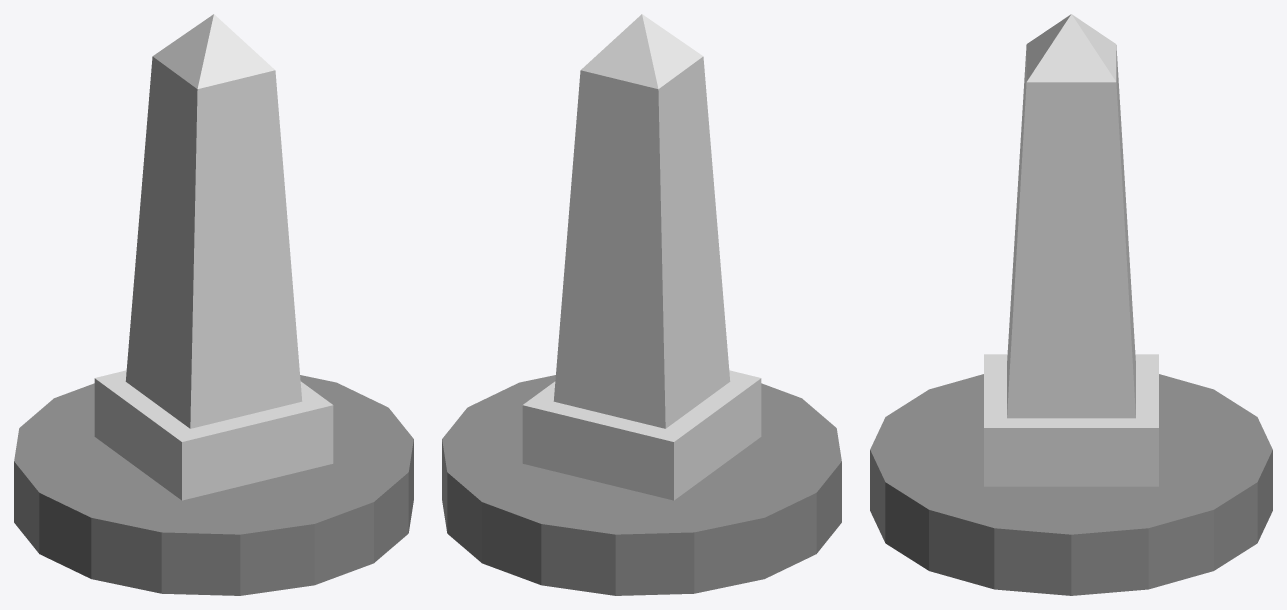
File: Monument_Impasse.fbx
3 renders of one model, left to right at view 1: azimuth 30°, elevation 25°; view 2: azimuth 150°, elevation 25°; view 3: azimuth 270°, elevation 25°, orthographic.
Visible parts, largest first — view 1: BenchImpasse_T_Colors; view 2: BenchImpasse_T_Colors; view 3: BenchImpasse_T_Colors.
Boxes of the visible parts, left/top/right/bottom form: BenchImpasse_T_Colors: left=14, top=14, right=413, bottom=595; BenchImpasse_T_Colors: left=442, top=14, right=841, bottom=595; BenchImpasse_T_Colors: left=870, top=14, right=1272, bottom=595.
Size of the model in its own units: 426 by 583 by 426.
